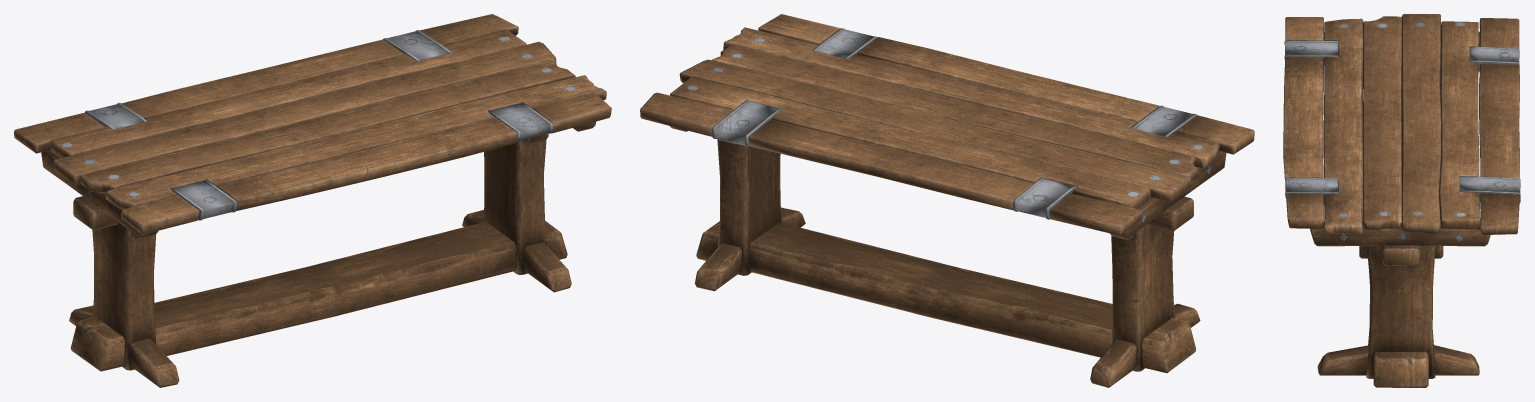
The model's file is table.obj.
3 views of the same model, side by side, from view 1: azimuth 30°, elevation 25°; view 2: azimuth 150°, elevation 25°; view 3: azimuth 270°, elevation 25° (orthographic). The views are drawn at different scales.
Parts seen in each view (by area): view 1: table_final; view 2: table_final; view 3: table_final.
Boxes of the visible parts, x1,y1,x2,y2 form: table_final: (14, 14, 611, 387); table_final: (640, 14, 1254, 387); table_final: (1283, 14, 1520, 387).
Bounding box in the file's own units: 2.23 × 0.8302 × 1.05.
